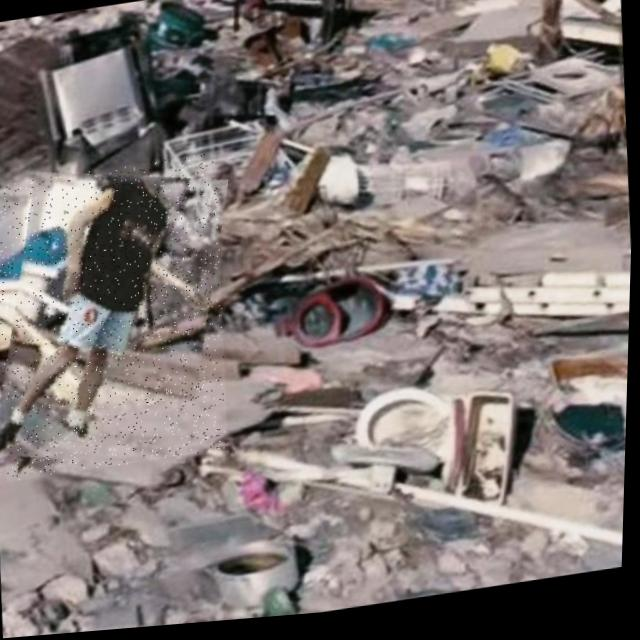Person in Rubble: (0, 154, 237, 484)
